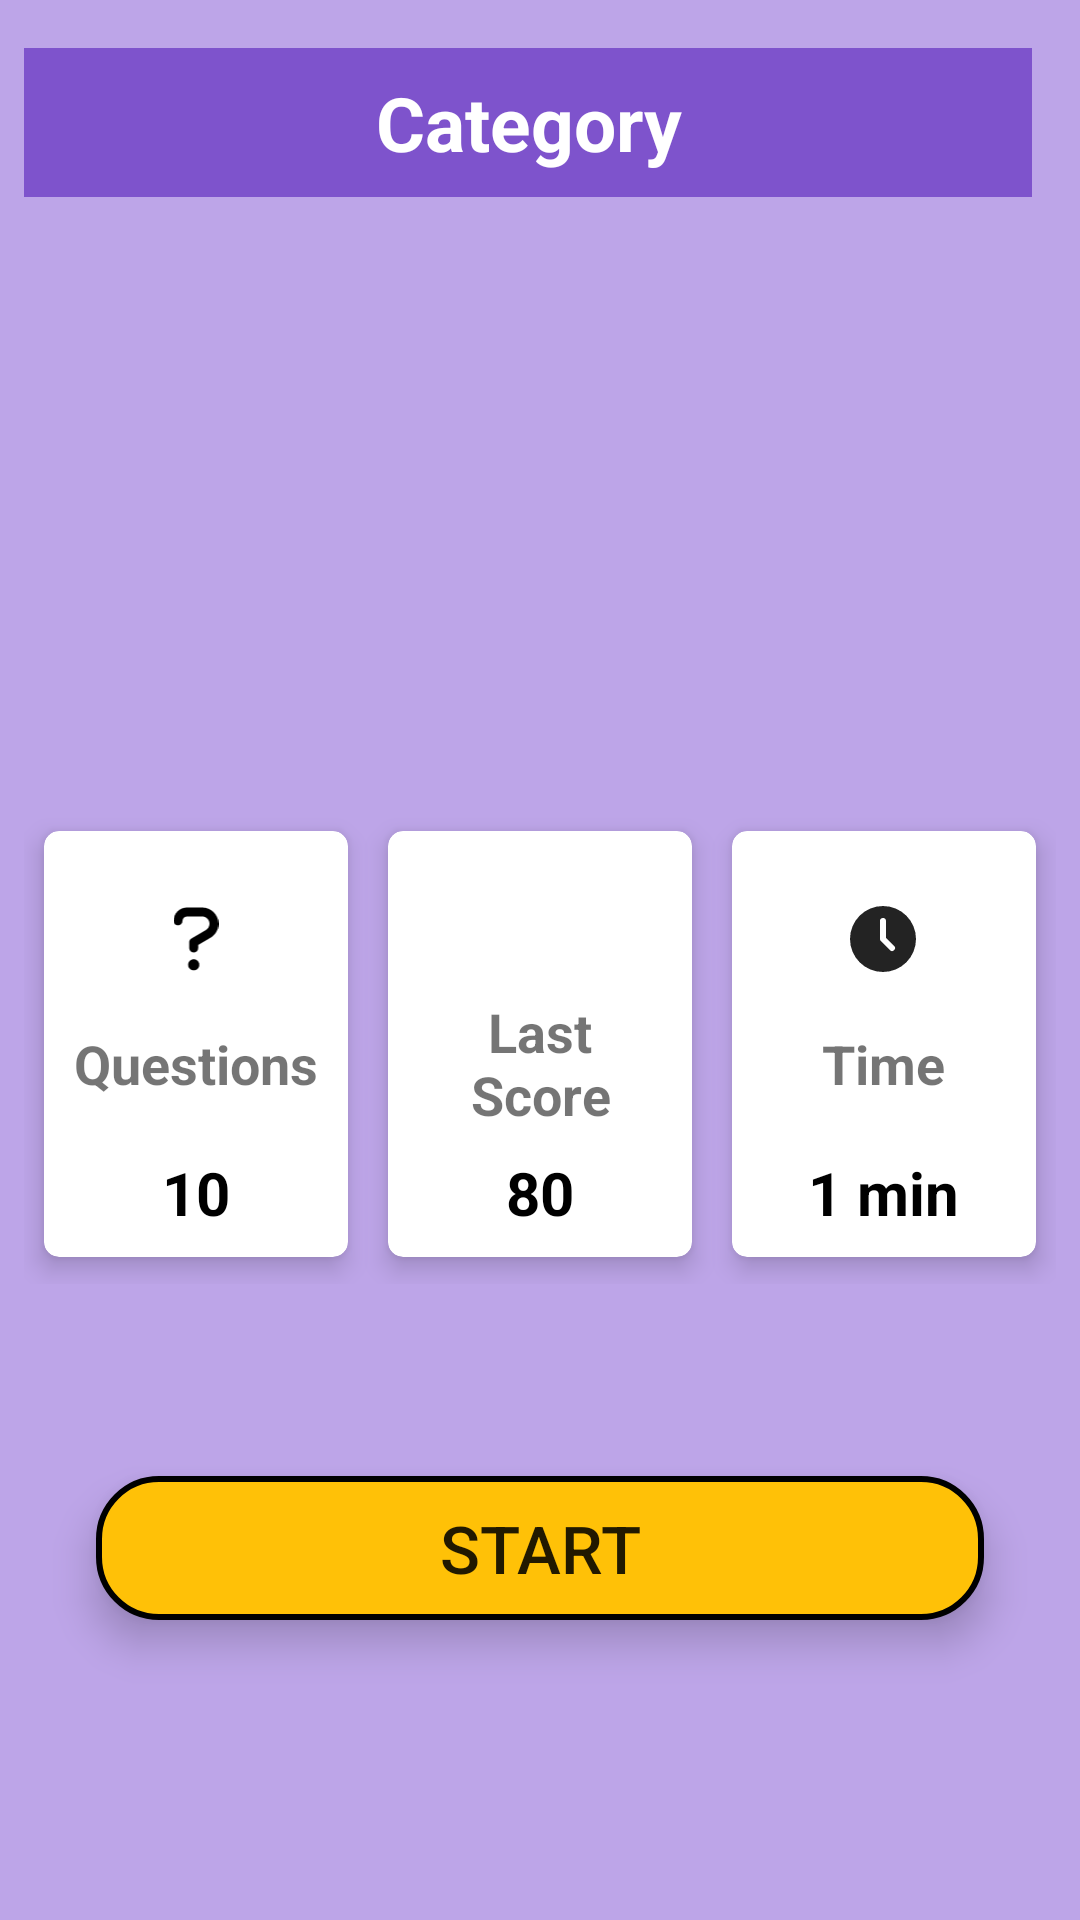

Locate icon controls on the screen. Image size 1080w x 1920h, boxes as (x1, y1, x2, y2).
clock: (850, 906, 916, 972)
